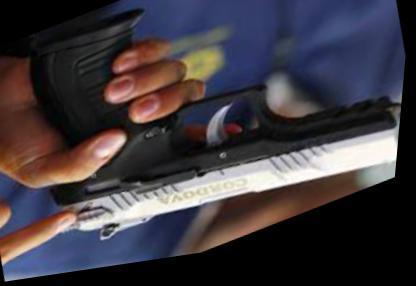pistol: (12, 0, 415, 279)
